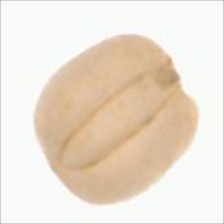L5: (53, 71, 167, 172), (143, 50, 190, 99)
L6: (32, 32, 203, 206)
